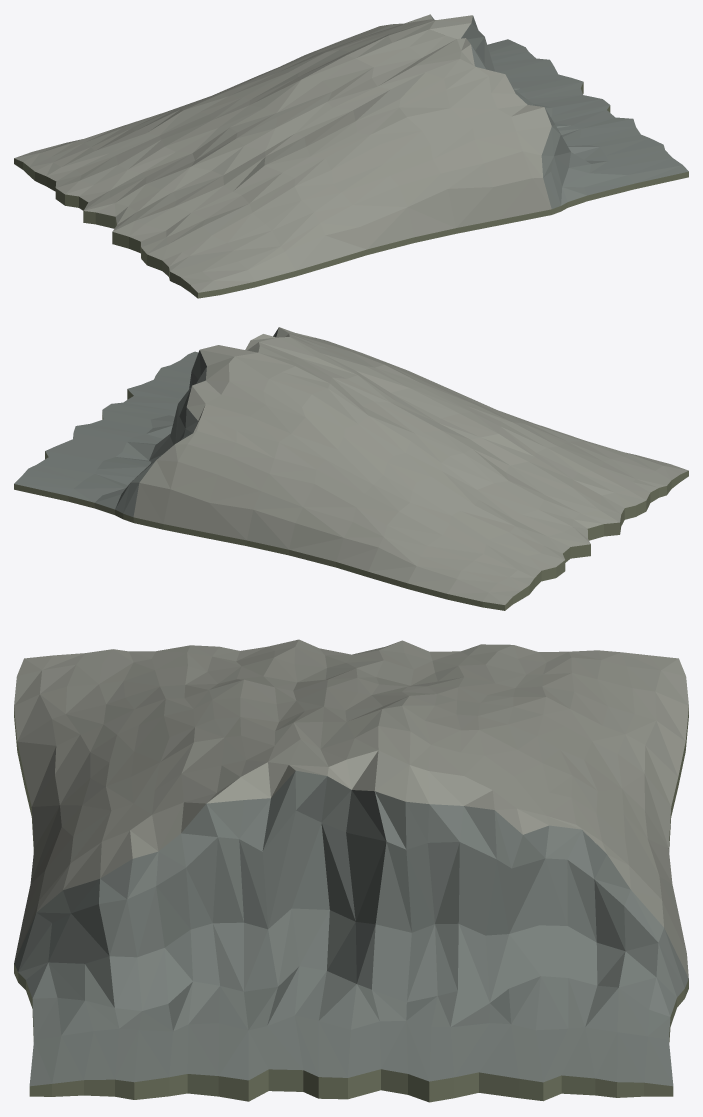
The picture shows the model from 3 angles, top to bottom: view 1: azimuth 30°, elevation 25°; view 2: azimuth 150°, elevation 25°; view 3: azimuth 270°, elevation 25°; orthographic projection. The views are drawn at different scales.
Visible parts, largest first — view 1: coherent_bedrock_stoss_and_irregularly_plucked_lee; view 2: coherent_bedrock_stoss_and_irregularly_plucked_lee; view 3: coherent_bedrock_stoss_and_irregularly_plucked_lee.
Part boxes in pixels (x1,y1,x2,y2): coherent_bedrock_stoss_and_irregularly_plucked_lee: (14, 14, 688, 298); coherent_bedrock_stoss_and_irregularly_plucked_lee: (14, 327, 688, 610); coherent_bedrock_stoss_and_irregularly_plucked_lee: (14, 639, 688, 1102).
Bounding box in the file's own units: 37.11 × 8.08 × 24.
